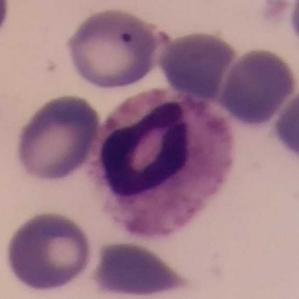Neutrophil: (86, 87, 234, 248)
RBC: (64, 5, 162, 92), (12, 92, 103, 184), (2, 208, 95, 295), (218, 46, 298, 127), (89, 238, 195, 299), (157, 28, 242, 102), (270, 84, 299, 167), (287, 0, 299, 50), (0, 0, 14, 30)
